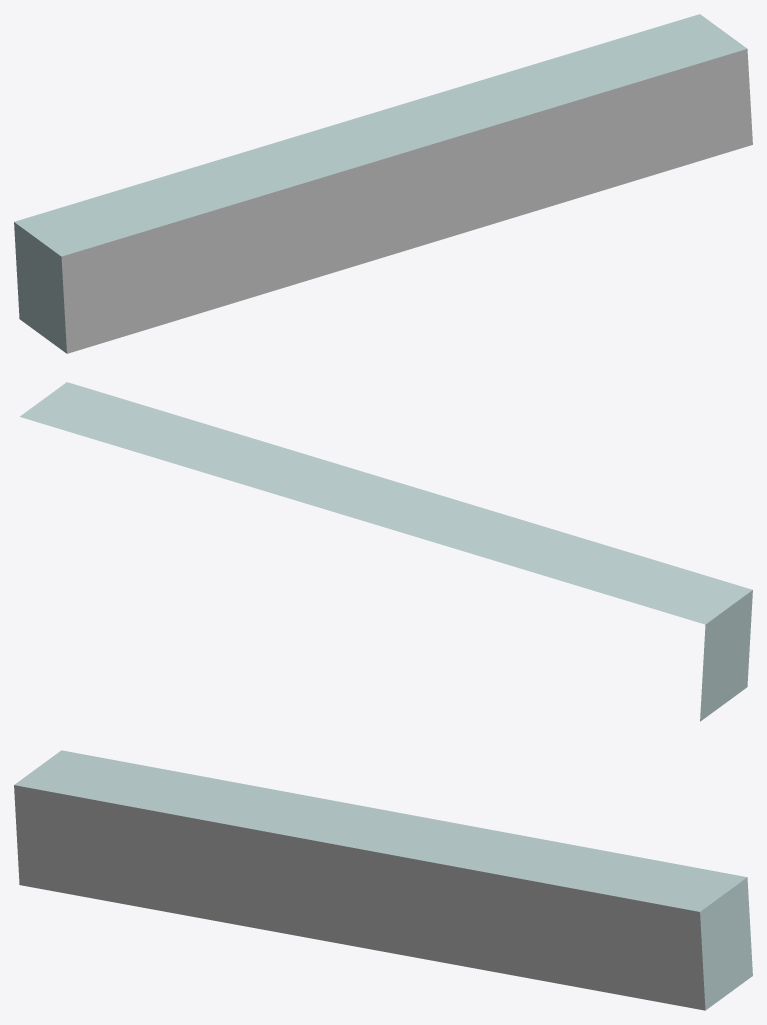
The picture shows the model from 3 angles, top to bottom: view 1: azimuth 30°, elevation 25°; view 2: azimuth 150°, elevation 25°; view 3: azimuth 330°, elevation 25°; orthographic projection.
Visible parts, largest first — view 1: 0_1_2_1_3_1_0_3_1; view 2: 0_1_2_1_3_1_0_3_1; view 3: 0_1_2_1_3_1_0_3_1.
Boxes of the visible parts, bbox=[...] form: 0_1_2_1_3_1_0_3_1: bbox=[14, 14, 752, 353]; 0_1_2_1_3_1_0_3_1: bbox=[20, 382, 752, 721]; 0_1_2_1_3_1_0_3_1: bbox=[14, 750, 752, 1010].
Bounding box in the file's own units: 25.21 × 4.85 × 3.
